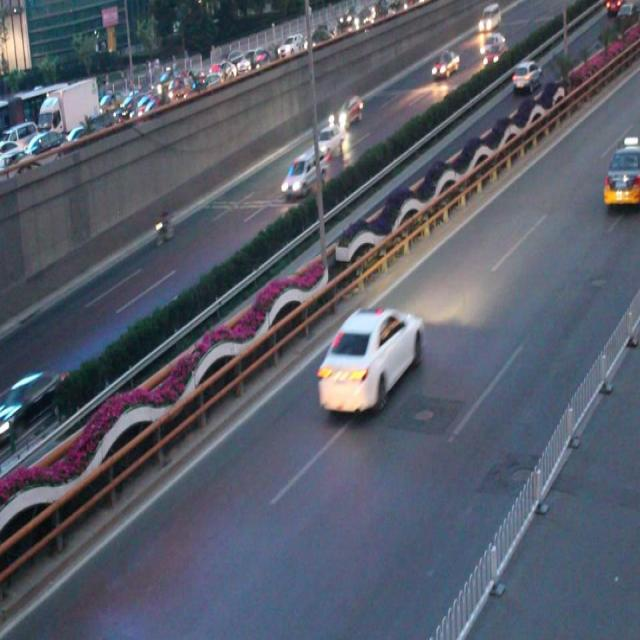car: (316, 309, 422, 412), (1, 366, 71, 429), (599, 137, 640, 209), (327, 96, 365, 128), (310, 121, 344, 156)
truck: (280, 146, 330, 201)
